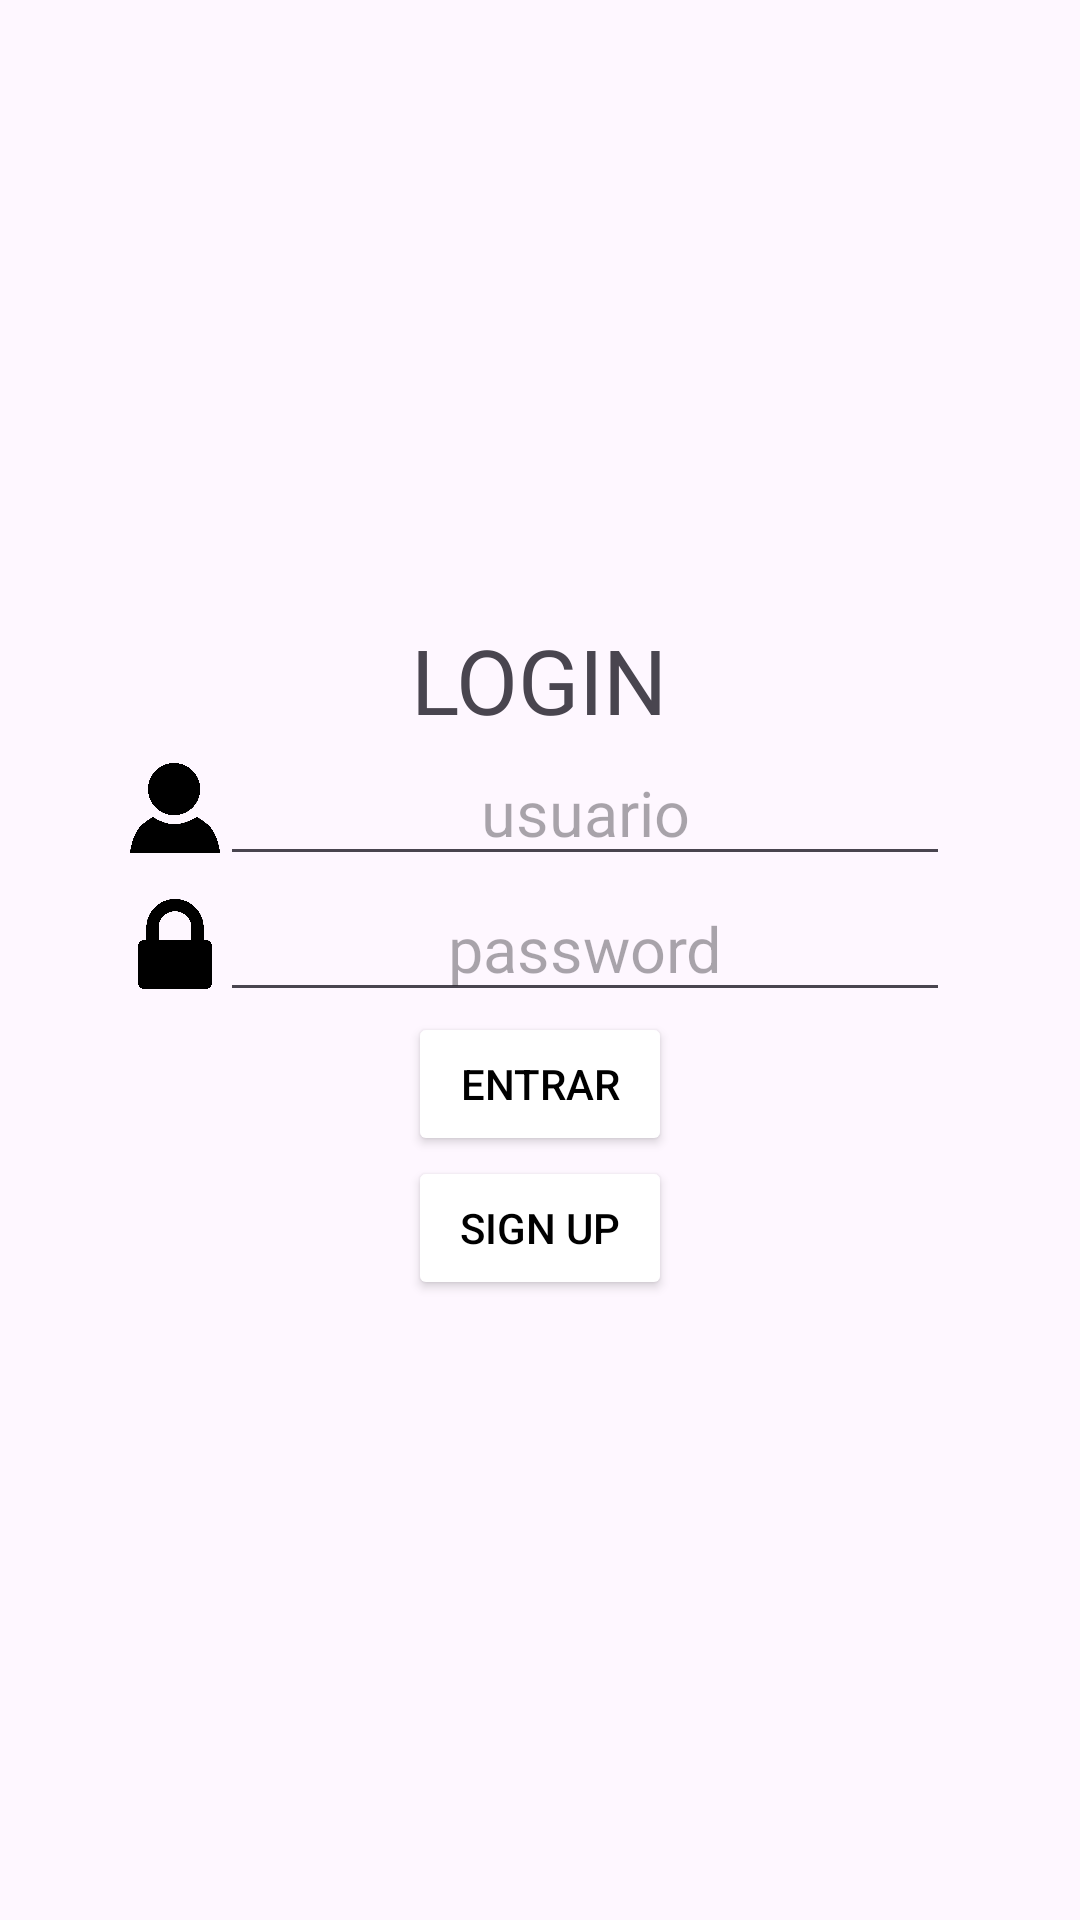

Screen size 1080 x 1920. Icon name, then its center in pixels as (x,y):
lock: (175,944)
user: (175,808)
